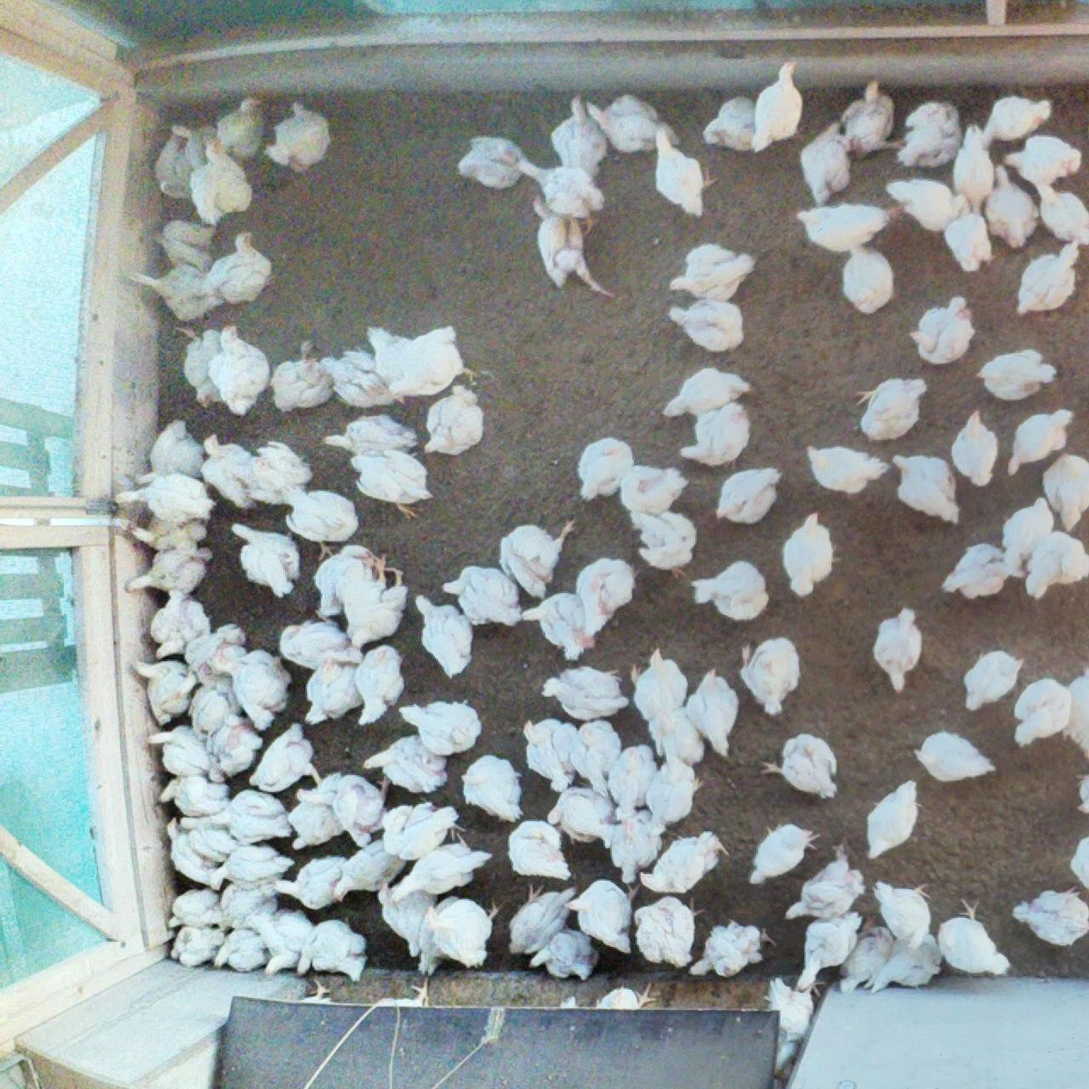chicken: (526, 194, 619, 301), (511, 155, 607, 236), (388, 832, 491, 906), (296, 773, 393, 846), (630, 647, 692, 757), (342, 552, 410, 650), (784, 842, 868, 921), (498, 516, 577, 599), (390, 326, 482, 397), (128, 259, 225, 326), (215, 650, 293, 732), (207, 323, 275, 417), (350, 449, 436, 523), (201, 227, 279, 308), (639, 829, 731, 897), (651, 127, 718, 219), (789, 909, 865, 990), (565, 877, 642, 956), (280, 487, 363, 560), (838, 78, 907, 164), (1014, 234, 1084, 318), (939, 897, 1013, 976), (587, 92, 681, 154), (424, 893, 502, 967), (232, 522, 303, 603), (888, 450, 964, 525), (309, 544, 383, 621), (189, 138, 256, 223), (760, 731, 840, 802), (746, 59, 806, 153), (685, 556, 770, 622), (228, 440, 310, 508), (670, 242, 759, 304), (113, 472, 215, 526), (797, 196, 897, 251), (633, 894, 706, 969), (506, 880, 577, 957), (519, 593, 599, 661), (853, 374, 929, 445), (683, 665, 742, 756), (573, 556, 640, 636), (123, 539, 212, 599), (320, 345, 406, 407), (440, 565, 522, 630), (678, 400, 752, 472), (981, 161, 1042, 248), (287, 766, 349, 851), (762, 978, 816, 1075), (738, 631, 801, 714), (690, 918, 777, 978), (862, 931, 946, 993), (382, 798, 463, 862), (862, 779, 925, 861), (245, 723, 322, 790), (126, 655, 195, 729), (973, 346, 1058, 406), (1005, 404, 1073, 479), (803, 438, 889, 497), (520, 716, 584, 795), (663, 365, 753, 421), (941, 542, 1025, 602), (895, 99, 964, 172), (872, 605, 928, 694), (278, 614, 363, 672), (780, 510, 836, 598), (396, 700, 482, 757), (416, 592, 473, 678), (872, 878, 939, 951), (362, 733, 446, 791), (798, 112, 852, 202), (621, 461, 689, 532), (909, 293, 977, 364), (886, 177, 977, 230), (198, 433, 259, 512), (266, 98, 332, 171), (646, 752, 704, 835), (1015, 885, 1089, 950), (269, 338, 332, 414), (212, 784, 293, 843), (913, 730, 998, 786), (377, 880, 438, 958), (460, 753, 527, 824), (665, 295, 747, 353), (323, 411, 419, 460), (547, 95, 604, 177), (542, 666, 630, 719), (1009, 675, 1072, 749), (271, 853, 351, 911), (750, 823, 821, 888), (636, 507, 700, 579), (949, 122, 997, 218), (837, 241, 900, 314), (295, 914, 370, 975), (355, 641, 408, 727), (333, 837, 404, 901), (207, 841, 296, 892), (424, 383, 485, 457), (1000, 490, 1050, 580), (1026, 528, 1089, 599), (177, 324, 229, 410), (958, 648, 1025, 714), (1006, 134, 1086, 189), (1038, 448, 1089, 534), (150, 588, 210, 661), (185, 665, 242, 741), (942, 200, 998, 277), (458, 134, 531, 193), (205, 709, 264, 781), (548, 785, 615, 848), (569, 716, 619, 800), (836, 923, 892, 996), (715, 465, 782, 526), (607, 742, 658, 822), (949, 409, 1000, 488), (162, 816, 217, 889), (149, 128, 204, 201), (507, 818, 571, 880), (150, 214, 217, 273), (578, 435, 635, 503), (301, 662, 361, 726), (149, 418, 206, 485), (702, 96, 769, 153), (529, 927, 601, 980), (608, 810, 661, 882), (261, 904, 311, 977), (1034, 183, 1089, 248), (147, 723, 213, 777), (157, 772, 231, 820), (981, 95, 1053, 144), (190, 621, 247, 682), (415, 895, 459, 974), (362, 323, 417, 386), (167, 919, 227, 975), (214, 879, 277, 931), (211, 921, 270, 975), (130, 513, 210, 552), (180, 811, 236, 865), (657, 707, 705, 769), (173, 121, 225, 178), (160, 887, 224, 932), (221, 98, 265, 155), (1063, 667, 1089, 760), (598, 979, 659, 1011), (377, 976, 434, 1009), (1067, 834, 1089, 893)
